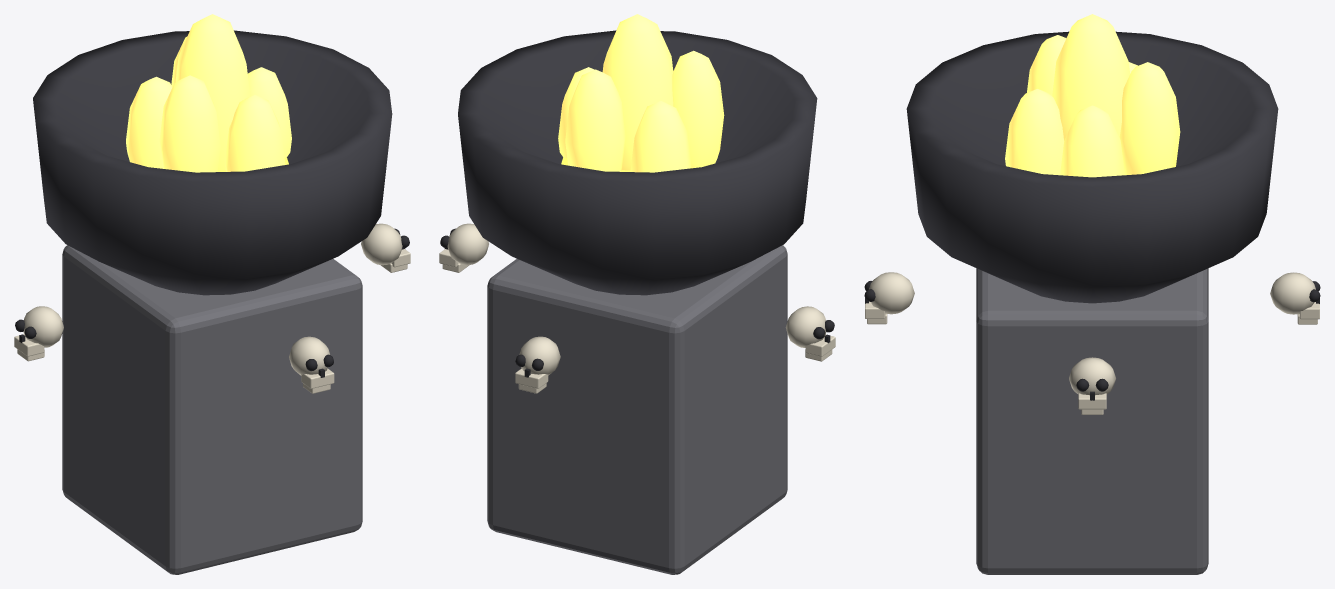
The model's file is brazier_skull_brazier.glb.
3 views of the same model, side by side, from view 1: azimuth 30°, elevation 25°; view 2: azimuth 150°, elevation 25°; view 3: azimuth 270°, elevation 25° (orthographic). The views are drawn at different scales.
Parts seen in each view (by area): view 1: GD_brazier_skull_brazier__m0, GD_brazier_skull_brazier__m1, GD_brazier_skull_brazier__m6, GD_brazier_skull_brazier__m2, GD_brazier_skull_brazier__m3; view 2: GD_brazier_skull_brazier__m0, GD_brazier_skull_brazier__m1, GD_brazier_skull_brazier__m6, GD_brazier_skull_brazier__m2, GD_brazier_skull_brazier__m3; view 3: GD_brazier_skull_brazier__m0, GD_brazier_skull_brazier__m1, GD_brazier_skull_brazier__m6, GD_brazier_skull_brazier__m2, GD_brazier_skull_brazier__m3.
Part boxes in pixels (left/top/right/bottom): GD_brazier_skull_brazier__m0: left=62, top=245, right=362, bottom=574; GD_brazier_skull_brazier__m1: left=33, top=30, right=392, bottom=295; GD_brazier_skull_brazier__m6: left=126, top=14, right=291, bottom=172; GD_brazier_skull_brazier__m2: left=14, top=223, right=410, bottom=393; GD_brazier_skull_brazier__m3: left=15, top=228, right=409, bottom=377; GD_brazier_skull_brazier__m0: left=487, top=245, right=787, bottom=574; GD_brazier_skull_brazier__m1: left=458, top=30, right=817, bottom=295; GD_brazier_skull_brazier__m6: left=558, top=14, right=724, bottom=172; GD_brazier_skull_brazier__m2: left=439, top=223, right=835, bottom=393; GD_brazier_skull_brazier__m3: left=440, top=228, right=834, bottom=377; GD_brazier_skull_brazier__m0: left=976, top=268, right=1208, bottom=574; GD_brazier_skull_brazier__m1: left=906, top=31, right=1278, bottom=303; GD_brazier_skull_brazier__m6: left=1005, top=14, right=1180, bottom=177; GD_brazier_skull_brazier__m2: left=865, top=272, right=1319, bottom=414; GD_brazier_skull_brazier__m3: left=864, top=281, right=1320, bottom=400.
Bounding box in the file's own units: 0.7854 × 0.98 × 0.7855.
